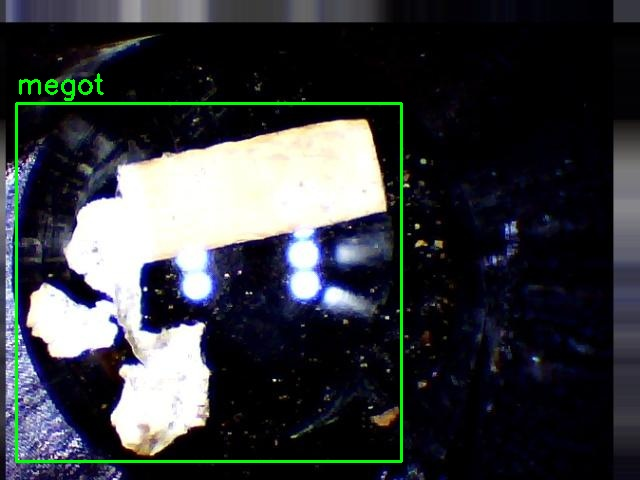megot: (16, 103, 401, 461)
